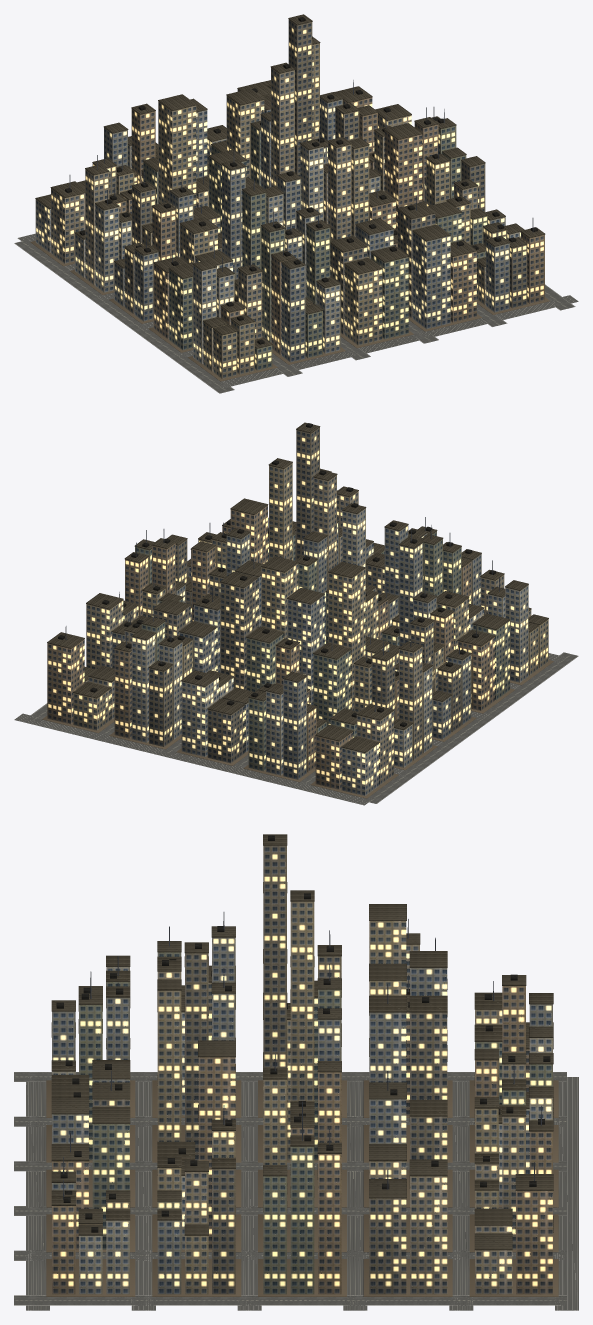
Rendered from district.glb.
3 renders of one model, top to bottom at view 1: azimuth 30°, elevation 25°; view 2: azimuth 150°, elevation 25°; view 3: azimuth 270°, elevation 25°, orthographic. The views are drawn at different scales.
Parts seen in each view (by area): view 1: district; view 2: district; view 3: district.
Part boxes in pixels (box(x1,y1,x2,y2)): district: box(14, 14, 578, 393); district: box(14, 422, 578, 805); district: box(14, 834, 578, 1310).
Bounding box in the file's own units: 235 × 162 × 235.
6 materials, 5 textured.
